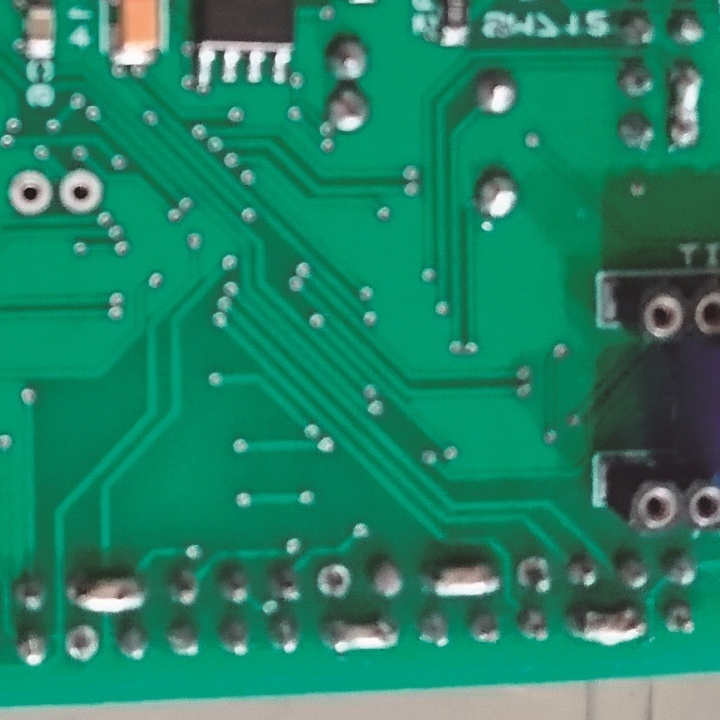F: (55, 164, 104, 216), (5, 166, 54, 215), (312, 561, 356, 600), (64, 624, 101, 663), (516, 555, 551, 593)
P: (321, 612, 404, 657), (419, 556, 501, 598), (66, 572, 150, 613), (567, 604, 648, 646), (665, 62, 701, 149)
